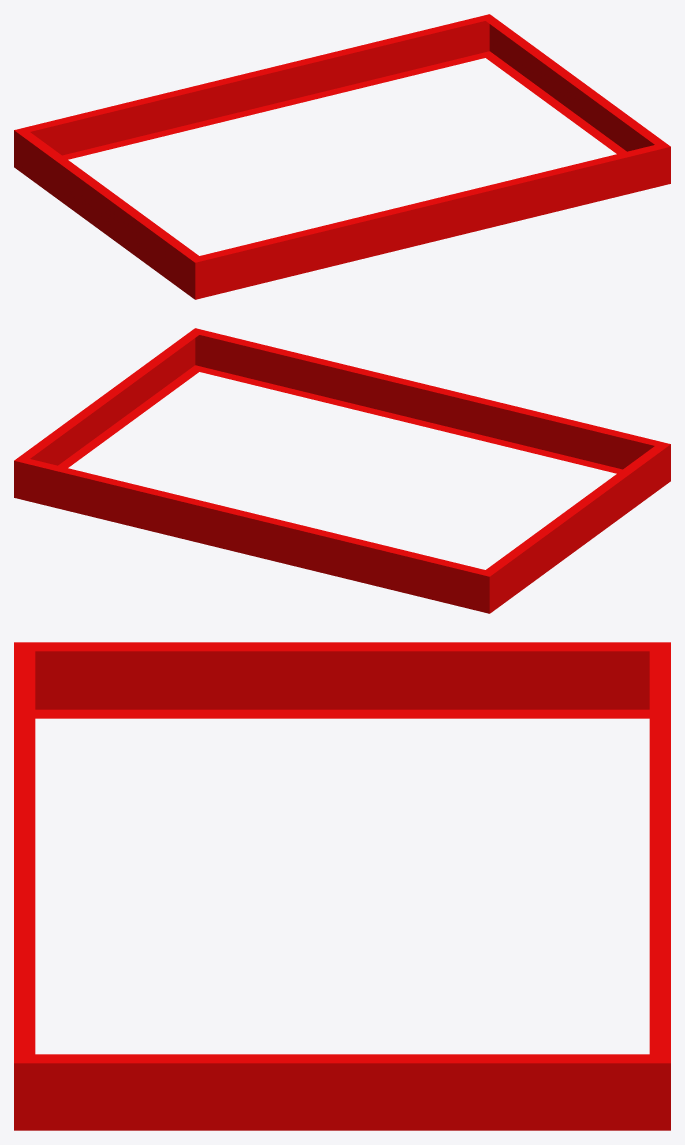
File: original-4.obj
3 renders of one model, top to bottom at view 1: azimuth 30°, elevation 25°; view 2: azimuth 150°, elevation 25°; view 3: azimuth 270°, elevation 25°, orthographic. The views are drawn at different scales.
Bounding box in the file's own units: 1.56 × 0.1164 × 1.03.
